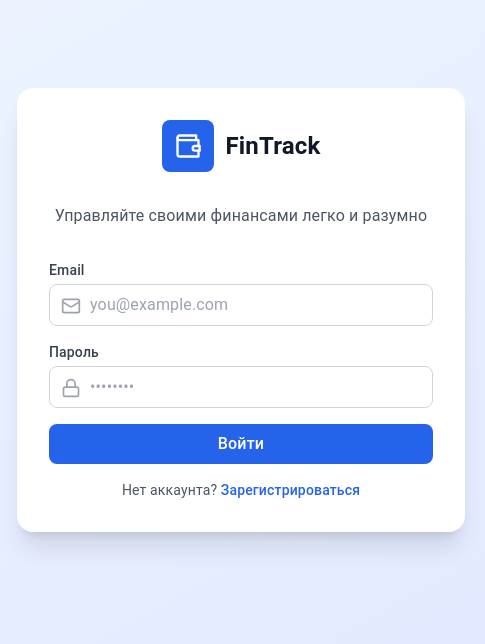
Scenario: Smoke: обязательные сценарии аутентификации › SMK-AUTH-01: Пользователь может зарегистрироваться
Step 1. Click the button "Зарегистрироваться" → (291, 490), box [221, 480, 360, 500]
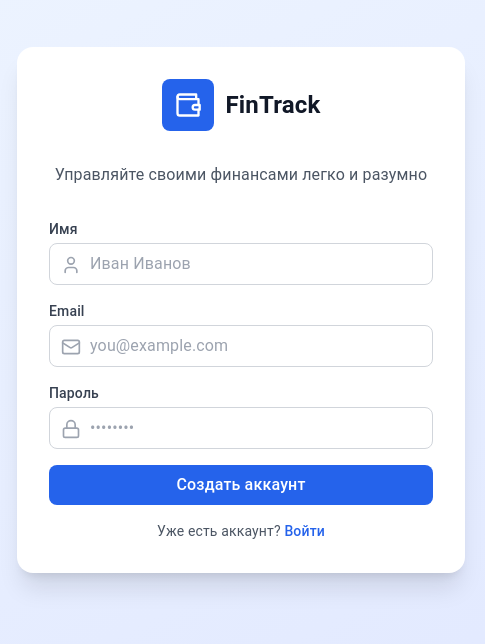
Step 2. Type "Тестовый Пользователь" into the field with placeholder "Иван Иванов" → (241, 264), box [49, 243, 433, 285]
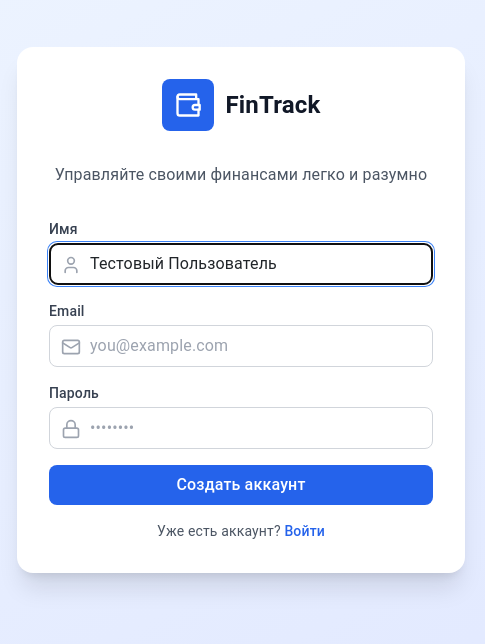
Step 3. Type "test.user@example.com" into the field with placeholder "you@example.com" → (241, 346), box [49, 325, 433, 367]
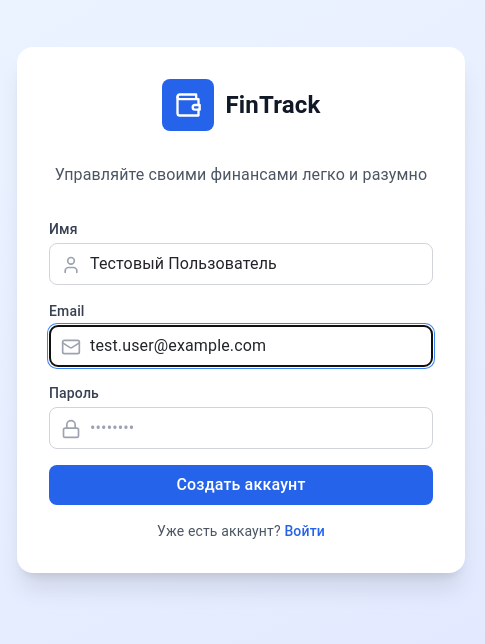
Step 4. Type "SecurePass123!" into the password field with placeholder "••••••••" → (241, 428), box [49, 407, 433, 449]
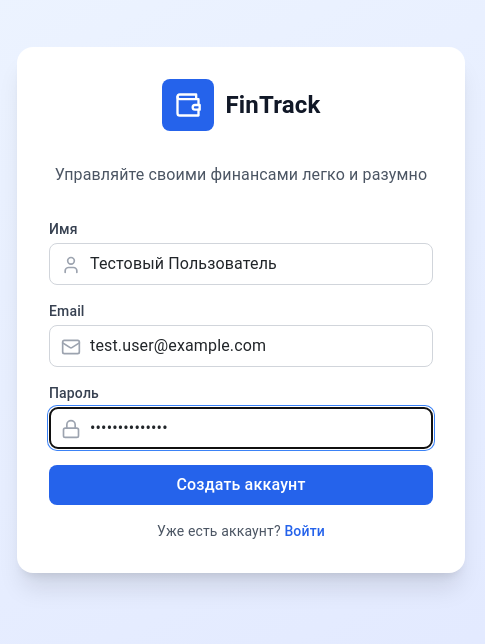
Step 5. Click the submit button → (241, 485), box [49, 465, 433, 505]
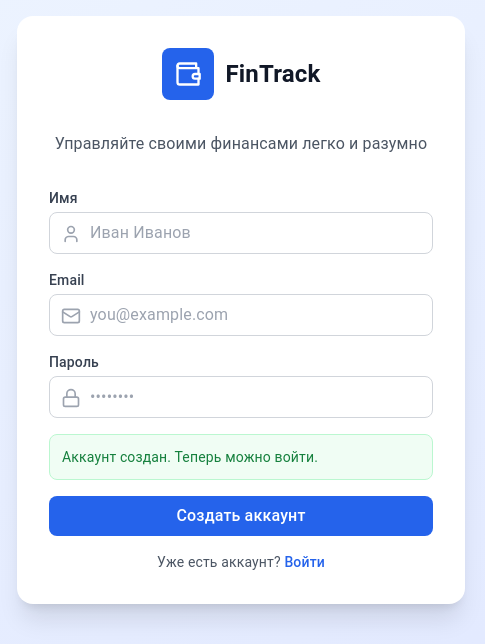
Now the text "Аккаунт создан" is shown, box [62, 449, 318, 465]
